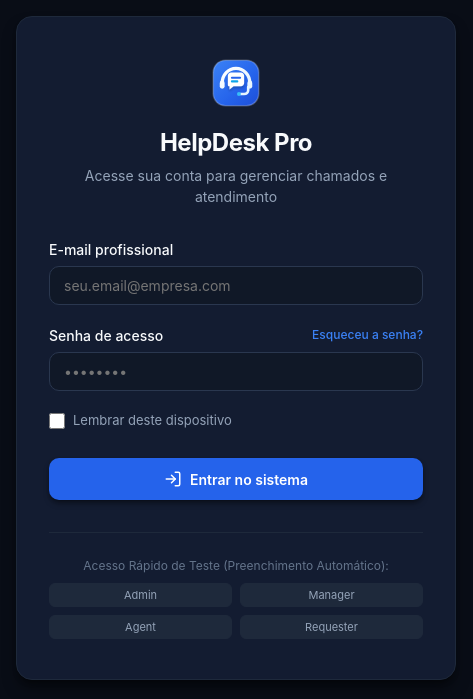
Scenario: LoginPage Component › prefills test credentials when quick button is clicked
Click the button "Admin" at coordinates (140, 595), box [49,583,232,607]
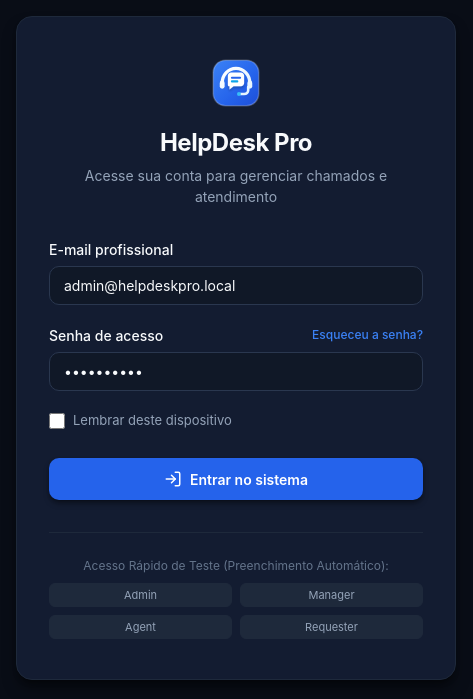
Expected: the field labelled "E-mail profissional" holds "admin@helpdeskpro.local", [49,266,423,305]
Expected: the password field labelled "Senha de acesso" holds "Secret123!", [49,352,423,391]
